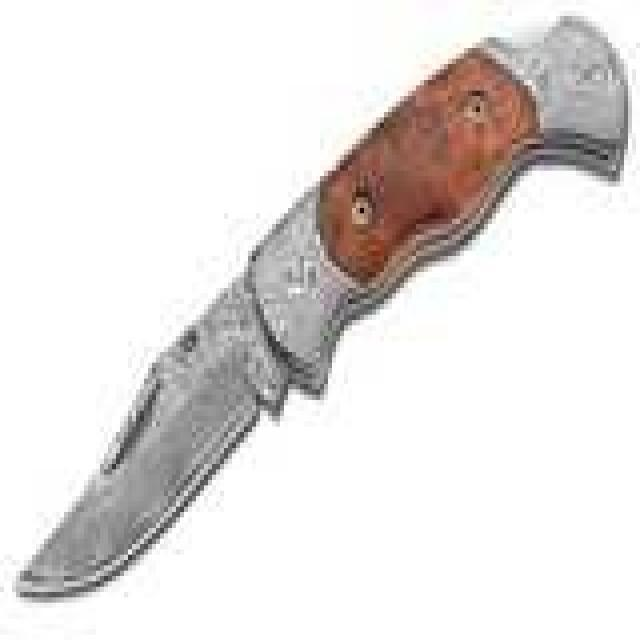knife: (16, 19, 637, 605)
